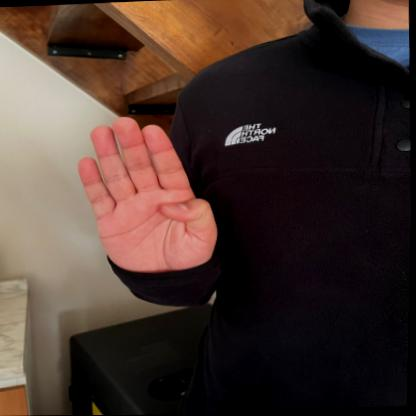B: (72, 104, 227, 285)
